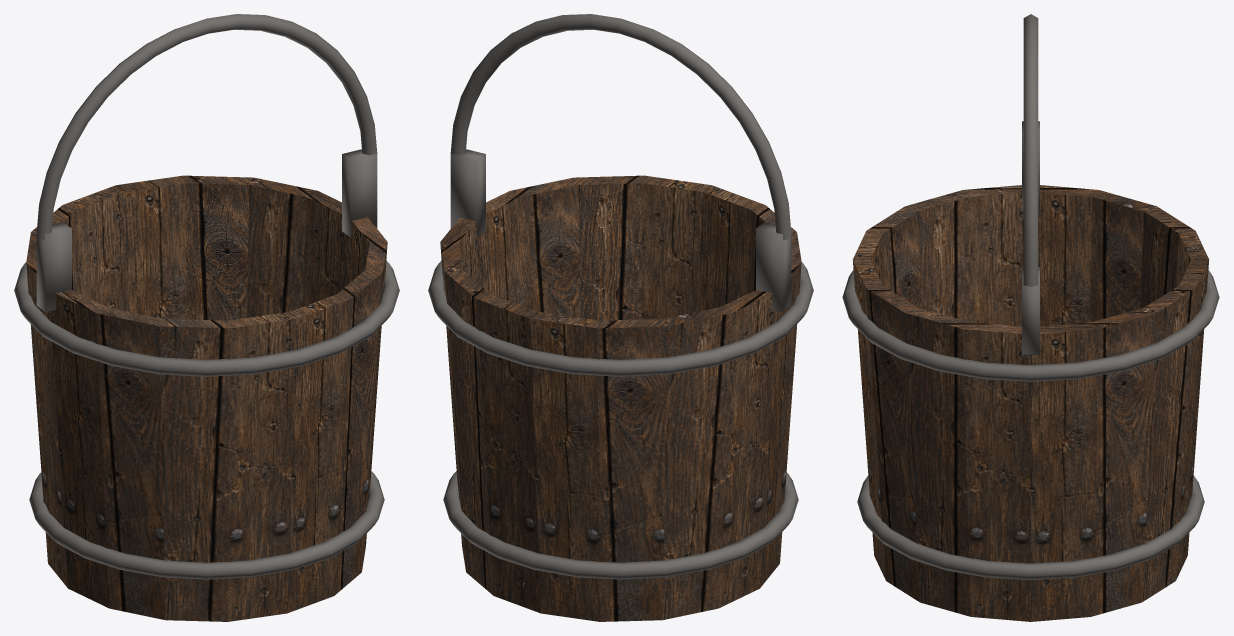
Rendered from wooden-bucket-v01.glb.
The picture shows the model from 3 angles, left to right: view 1: azimuth 30°, elevation 25°; view 2: azimuth 150°, elevation 25°; view 3: azimuth 270°, elevation 25°; orthographic projection. The views are drawn at different scales.
Visible parts, largest first — view 1: wooden-bucket; view 2: wooden-bucket; view 3: wooden-bucket.
Boxes of the visible parts, x1=… form: wooden-bucket: x1=14, y1=14, x2=399, y2=621; wooden-bucket: x1=428, y1=14, x2=813, y2=621; wooden-bucket: x1=842, y1=14, x2=1219, y2=621.
Size of the model in its own units: 0.648 by 0.974 by 0.6348.
2 materials, 1 textured.
